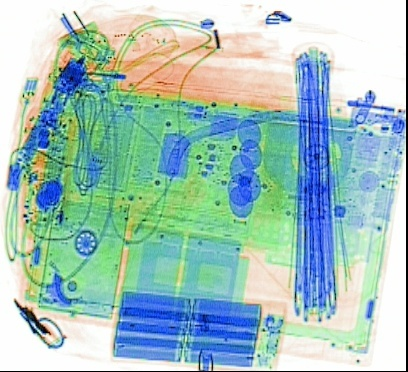powerbank: (109, 285, 286, 369)
